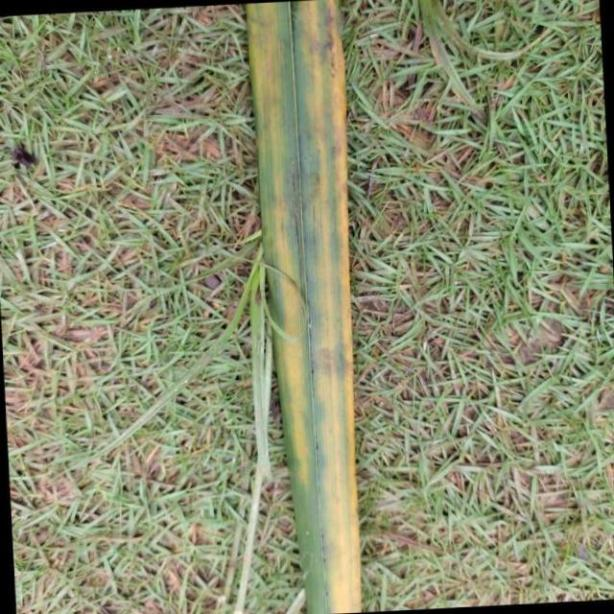Megnesium: (246, 0, 365, 614)
